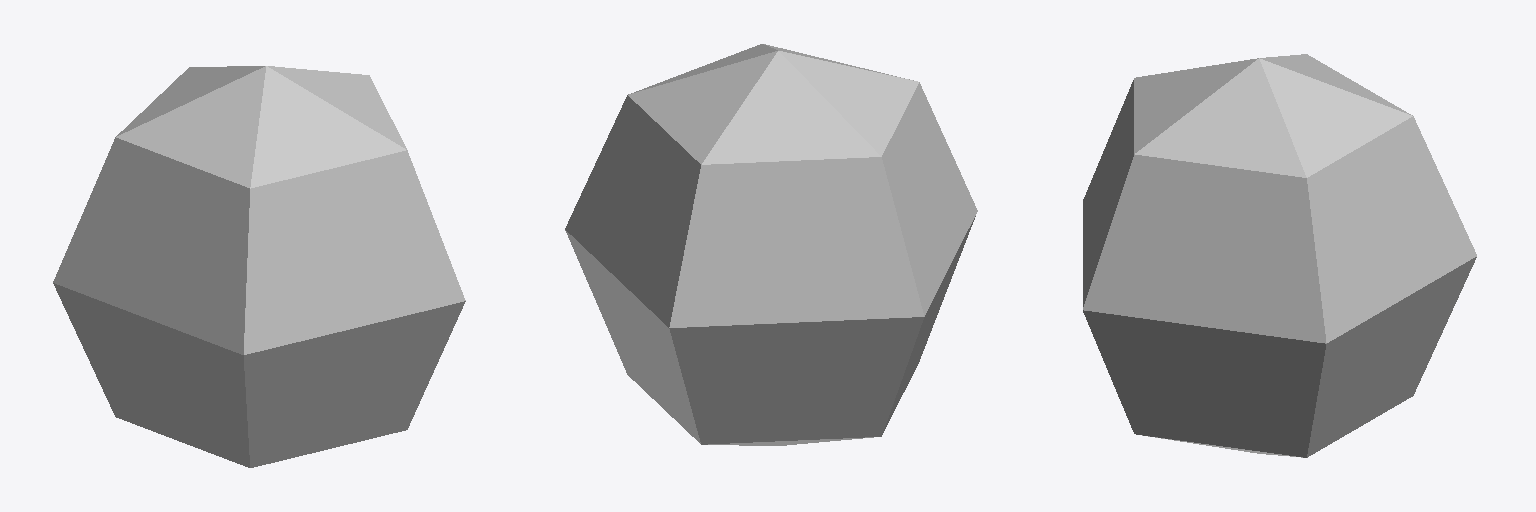
Rendered from LowPolyUVSphere.obj.
3 renders of one model, left to right at view 1: azimuth 30°, elevation 25°; view 2: azimuth 150°, elevation 25°; view 3: azimuth 270°, elevation 25°, orthographic.
Parts seen in each view (by area): view 1: Sphere; view 2: Sphere; view 3: Sphere.
Boxes of the visible parts, box(x1,y1,x2,y2) form: Sphere: box(53, 66, 465, 467); Sphere: box(565, 44, 977, 445); Sphere: box(1083, 54, 1476, 457).
Size of the model in its own units: 1.9 by 2 by 1.81.